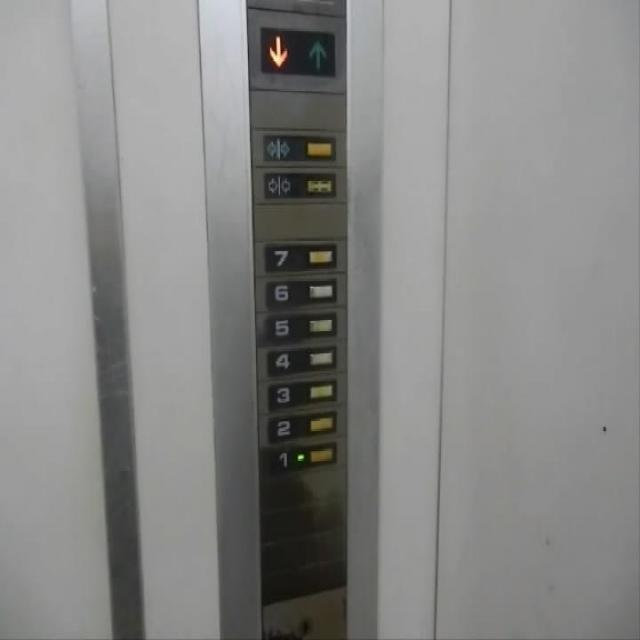1: (267, 440, 336, 473)
2: (266, 407, 335, 441)
3: (265, 376, 338, 408)
4: (265, 342, 337, 374)
5: (264, 309, 337, 340)
6: (263, 276, 338, 306)
7: (261, 241, 338, 270)
close: (262, 170, 336, 200)
open: (261, 131, 337, 161)
